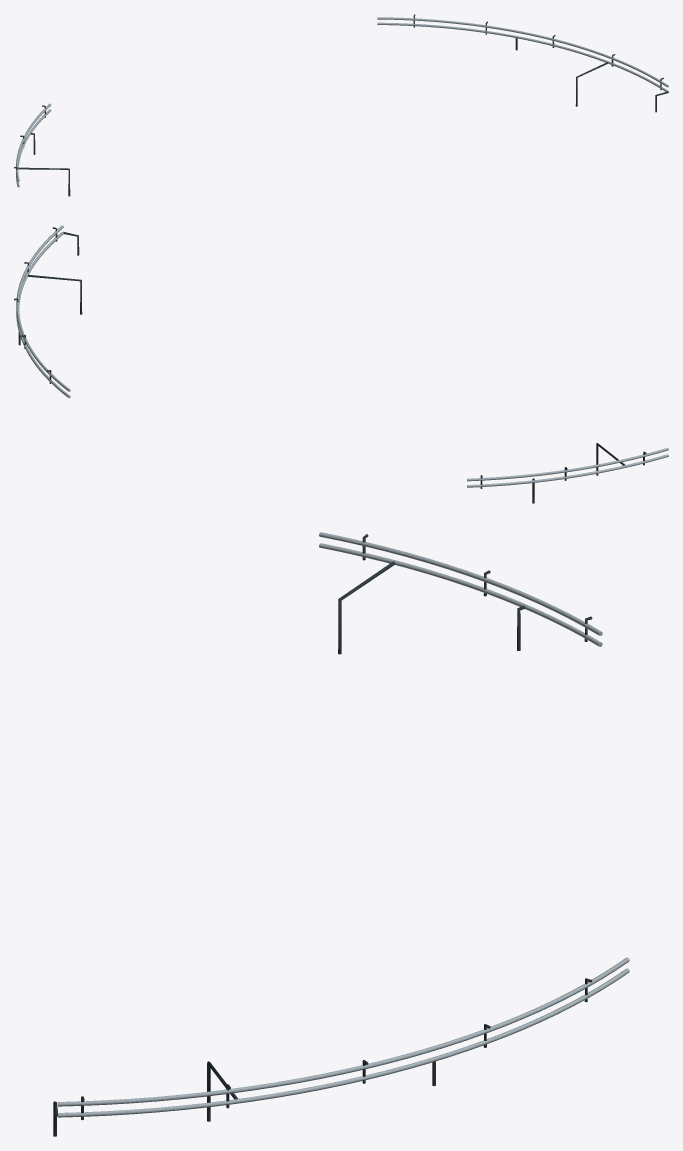
The model's file is SR_WallServices.fbx.
The picture shows the model from 3 angles, top to bottom: view 1: azimuth 30°, elevation 25°; view 2: azimuth 150°, elevation 25°; view 3: azimuth 270°, elevation 25°; orthographic projection. The views are drawn at different scales.
Visible parts, largest first — view 1: SR_WallServices; view 2: SR_WallServices; view 3: SR_WallServices.
Boxes of the visible parts, bbox=[...] form: SR_WallServices: bbox=[14, 14, 668, 196]; SR_WallServices: bbox=[14, 225, 668, 503]; SR_WallServices: bbox=[53, 532, 629, 1136].
Bounding box in the file's own units: 1231 × 76.4 × 524.
